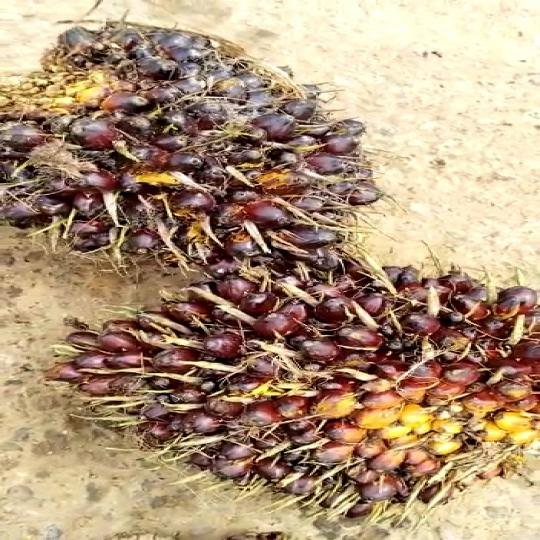kurang masak: (56, 259, 540, 529), (0, 18, 383, 282)
